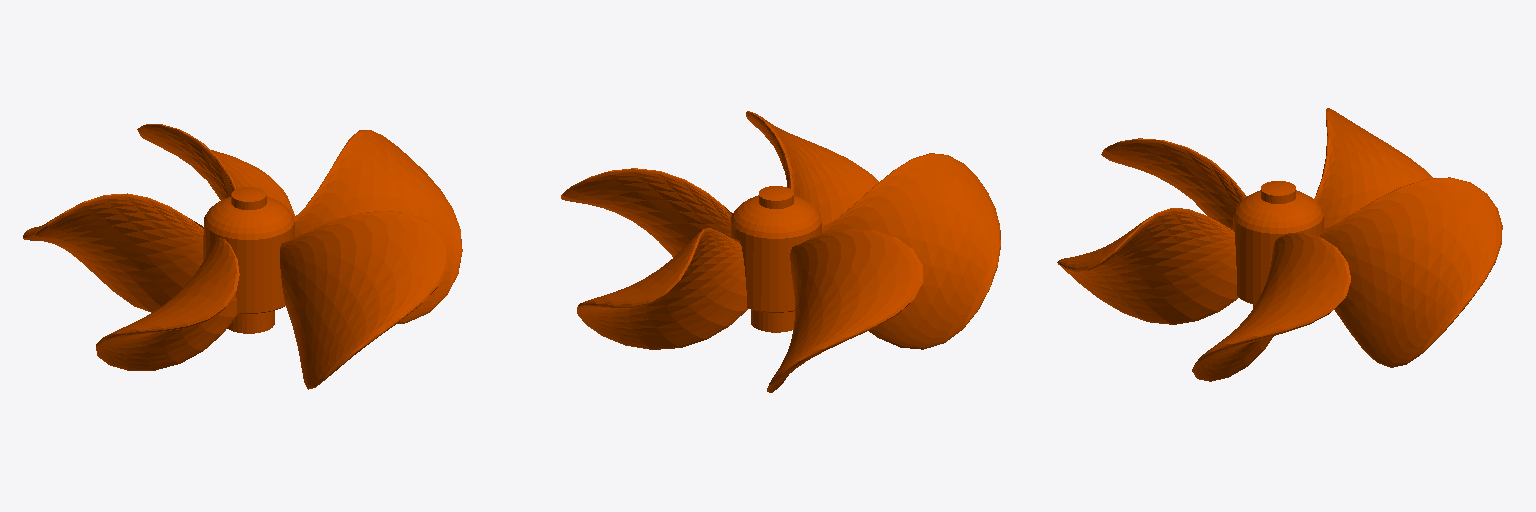
Rendered from PropellerP.obj.
3 views of the same model, side by side, from view 1: azimuth 30°, elevation 25°; view 2: azimuth 150°, elevation 25°; view 3: azimuth 270°, elevation 25° (orthographic).
Parts seen in each view (by area): view 1: PropBlade_Sphere, PropHub_Sphere.001; view 2: PropBlade_Sphere, PropHub_Sphere.001; view 3: PropBlade_Sphere, PropHub_Sphere.001.
Boxes of the visible parts, <box> form: PropBlade_Sphere: <box>23,124,462,389</box>; PropHub_Sphere.001: <box>203,187,294,333</box>; PropBlade_Sphere: <box>561,111,1000,392</box>; PropHub_Sphere.001: <box>731,186,821,332</box>; PropBlade_Sphere: <box>1057,108,1502,381</box>; PropHub_Sphere.001: <box>1233,181,1323,308</box>.
Bounding box in the file's own units: 9.36 × 3.53 × 9.59.